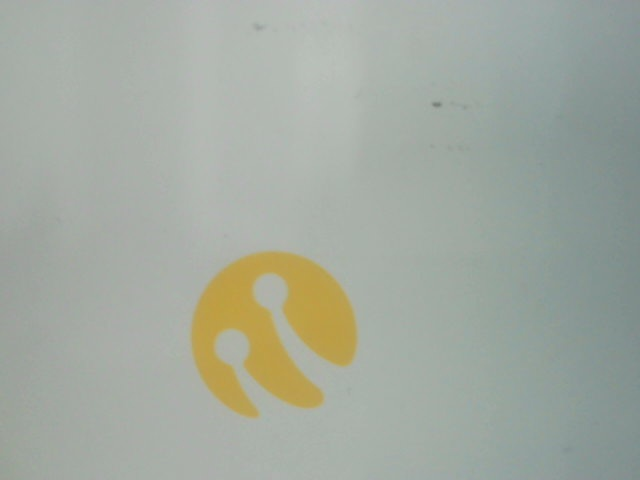AV_H3600Yellow: (166, 240, 385, 422)
